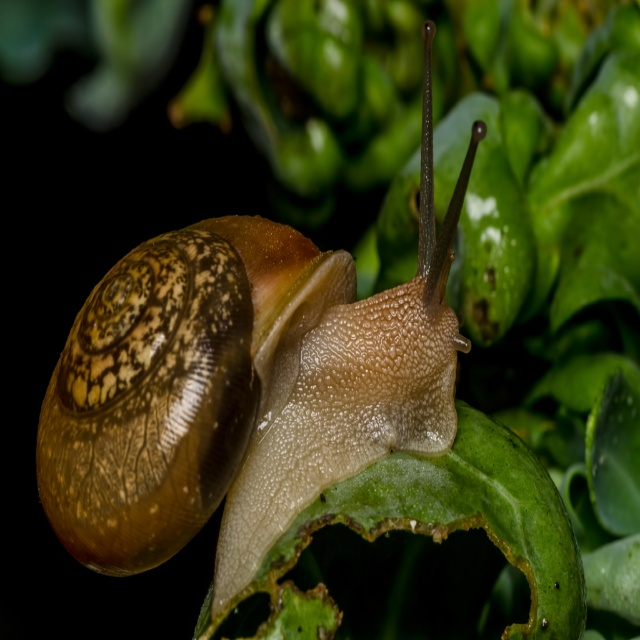Snail: (32, 17, 484, 630)
